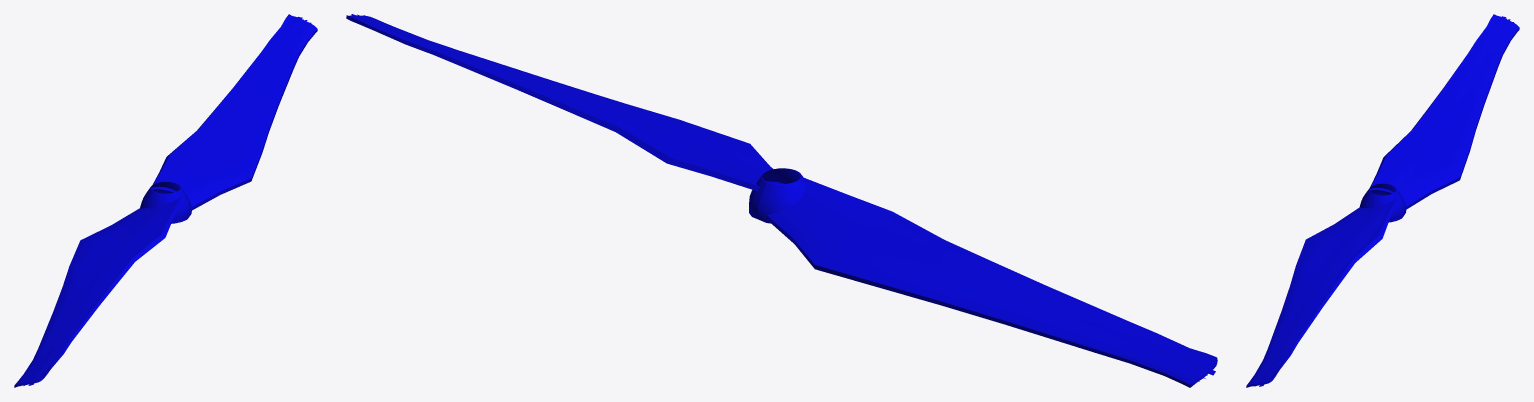
The model's file is propeller_2.fbx.
3 renders of one model, left to right at view 1: azimuth 90°, elevation 25°; view 2: azimuth 150°, elevation 25°; view 3: azimuth 270°, elevation 25°, orthographic. The views are drawn at different scales.
Visible parts, largest first — view 1: polySurface10; view 2: polySurface10; view 3: polySurface10.
Part boxes in pixels (box(x1,y1,x2,y2)): polySurface10: box(14, 14, 317, 387); polySurface10: box(346, 14, 1217, 387); polySurface10: box(1246, 14, 1519, 387).
Bounding box in the file's own units: 17.81 × 0.746 × 5.89.
